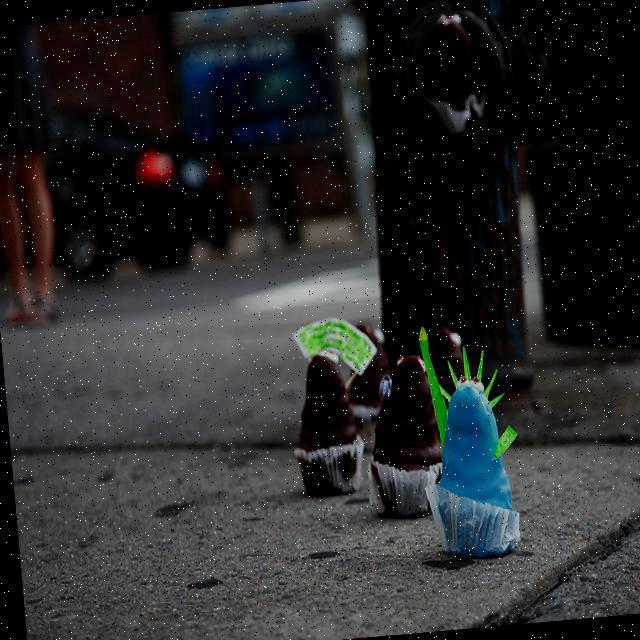fire_hydrant: (353, 0, 583, 456)
